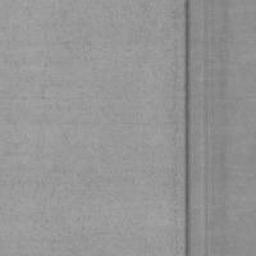Welding line: (183, 0, 192, 256)
